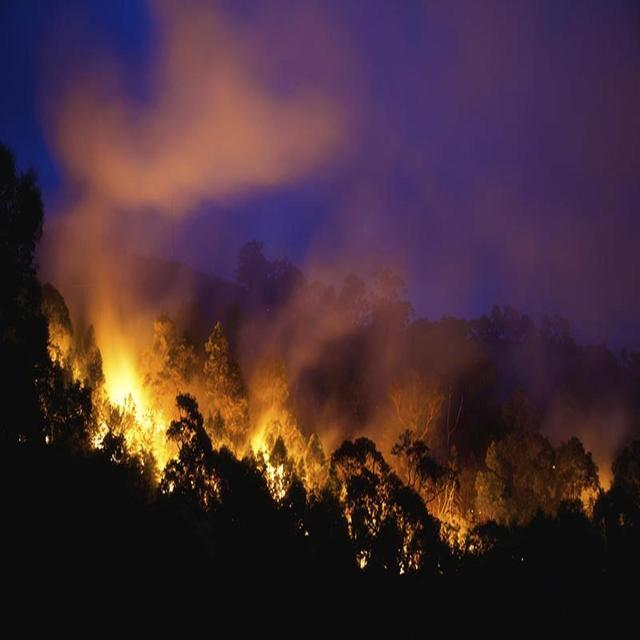Fire: (106, 348, 153, 432)
